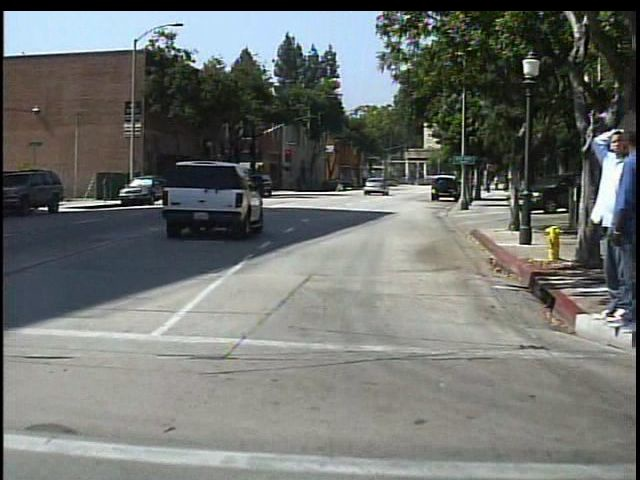person: (595, 128, 635, 332), (581, 123, 619, 329), (333, 172, 348, 195), (493, 172, 502, 193)
